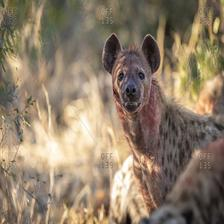hyena: (95, 28, 224, 224)
